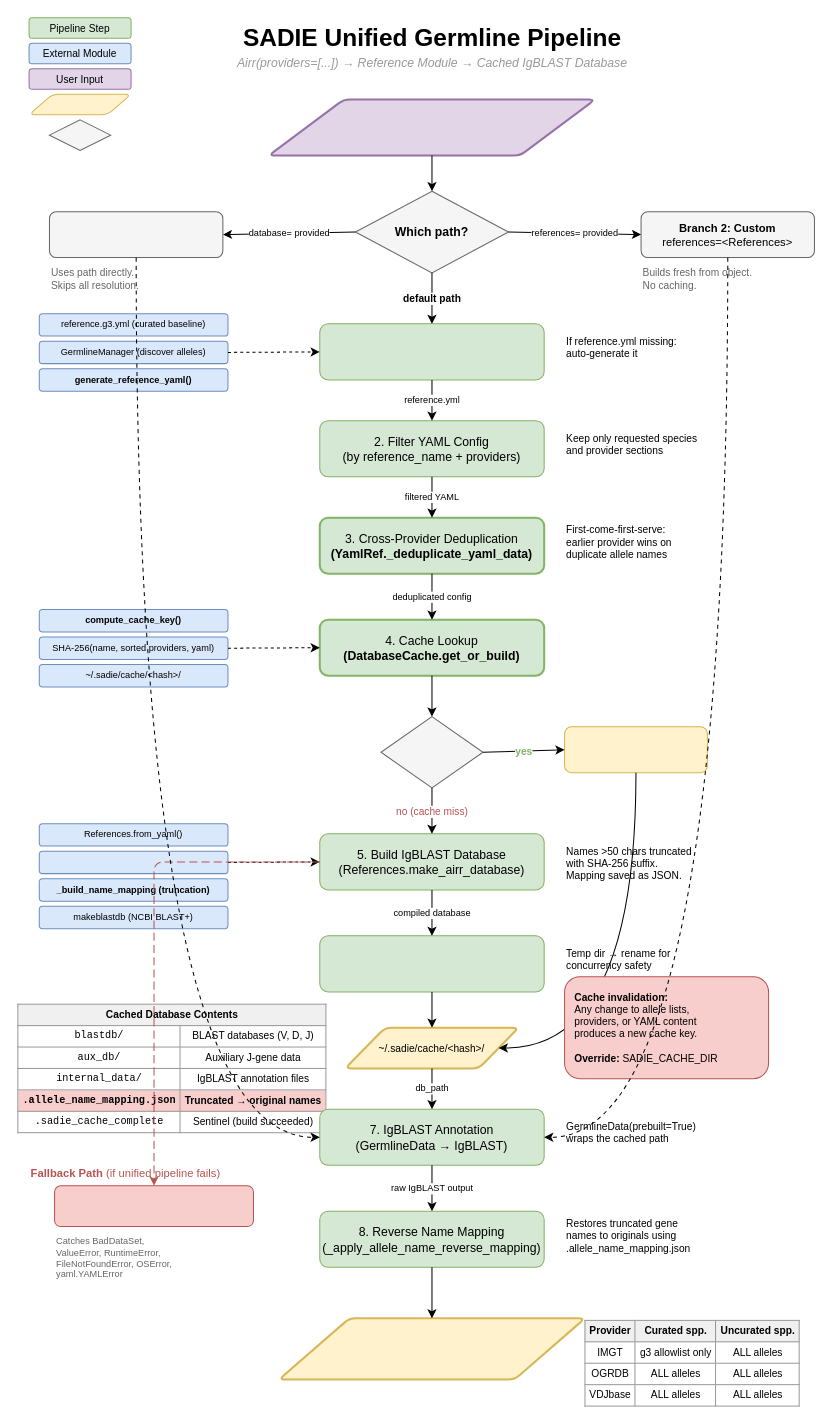
Image size: 837x1425. Some labels were removed from this diagram. The shapes that lost their labels are listed below. From the top down, each one's centre as x and y in pixels, then its label:
At (79,104): "Output / Artifact".
At (79,134): "Decision".
At (431,127): "Airr(reference_name, providers=[...]) User instantiates the Airr class".
At (135,234): "Branch 1: Prebuilt database=<path>".
At (431,351): "1. Check reference.yml (_get_reference_yaml_path)".
At (431,752): "Cache hit?".
At (635,749): "Cache Hit Return cached path".
At (133,862): "GermlineToG3Adapter (format)".
At (431,963): "6. Atomic Cache Store (build_and_cache → os.rename)".
At (153,1206): "Direct GermlineData (legacy germlines/ module)".
At (431,1348): "AirrTable AIRR-standard annotation results (v_call, d_call, j_call, cdr3, ...)".
